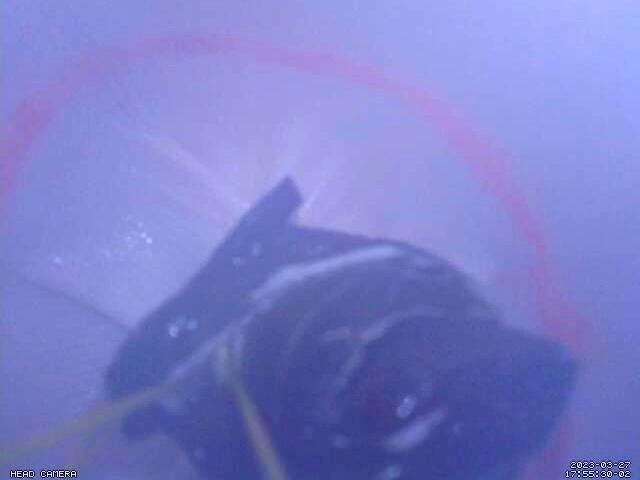head: (1, 32, 584, 480)
